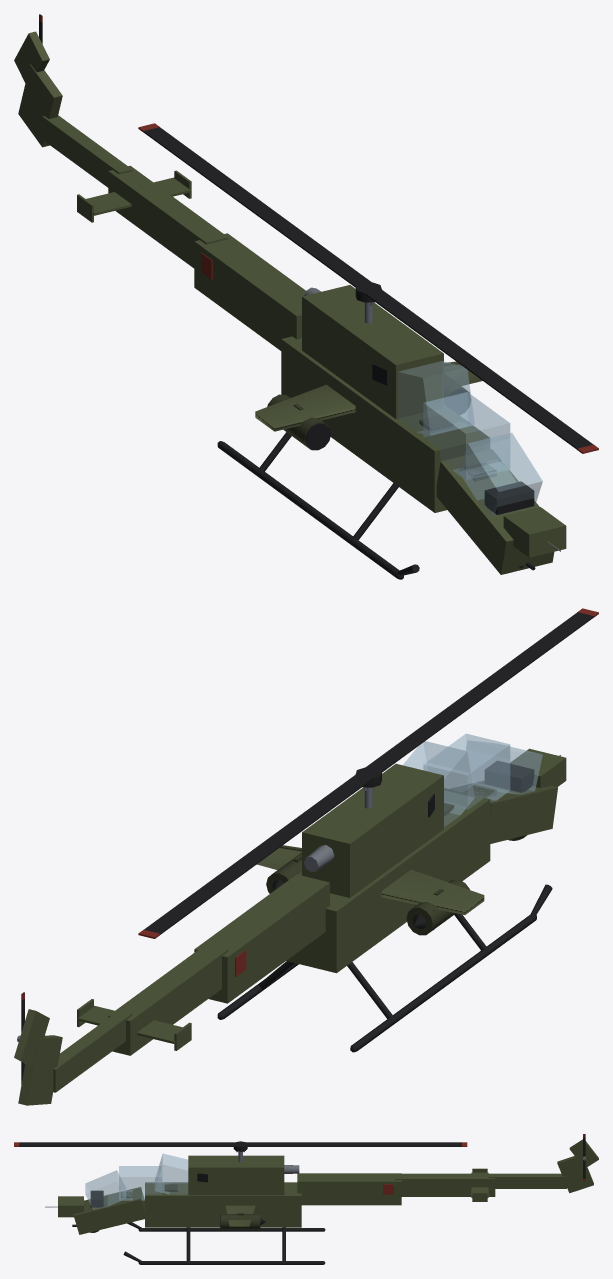
The model's file is ah-1g-cobra-attack.glb.
3 views of the same model, one above another, from view 1: azimuth 30°, elevation 25°; view 2: azimuth 150°, elevation 25°; view 3: azimuth 270°, elevation 25° (orthographic). The views are drawn at different scales.
Parts seen in each view (by area): view 1: Mesh_EngineDoghouse, Mesh_FuselageLower, Mesh_TailSegment1, Mesh_NoseLower, Mesh_CanopyMid, Mesh_TailSegment2, Mesh_CanopyRear, Mesh_CanopyFront, Mesh_Blade2, Mesh_Blade1, Mesh_TailSegment3, Mesh_StubWingsRight (+5 smaller); view 2: Mesh_EngineDoghouse, Mesh_FuselageLower, Mesh_TailSegment1, Mesh_TailSegment2, Mesh_CanopyMid, Mesh_Blade1, Mesh_Blade2, Mesh_NoseLower, Mesh_CanopyFront, Mesh_CanopyRear, Mesh_TailSegment3, Mesh_StubWingsRight (+6 smaller); view 3: Mesh_FuselageLower, Mesh_EngineDoghouse, Mesh_TailSegment1, Mesh_TailSegment2, Mesh_NoseLower, Mesh_CanopyMid, Mesh_CanopyRear, Mesh_TailSegment3, Mesh_CanopyFront, Mesh_Blade1, Mesh_Blade2, Mesh_TailFinLower (+7 smaller).
Boxes of the visible parts, x1,y1,x2,y2 form: Mesh_EngineDoghouse: (302,285,443,418); Mesh_FuselageLower: (281,336,489,512); Mesh_TailSegment1: (194,233,305,350); Mesh_NoseLower: (436,450,554,574); Mesh_CanopyMid: (423,392,510,479); Mesh_TailSegment2: (108,165,228,268); Mesh_CanopyRear: (398,361,474,435); Mesh_CanopyFront: (459,432,542,516); Mesh_Blade2: (143,127,376,289); Mesh_Blade1: (361,287,593,449); Mesh_TailSegment3: (42,115,132,187); Mesh_StubWingsRight: (255,384,355,431); Mesh_EngineDoghouse: (302,763,443,897); Mesh_FuselageLower: (286,788,490,973); Mesh_TailSegment1: (194,874,329,1003); Mesh_TailSegment2: (108,944,228,1055); Mesh_CanopyMid: (423,733,510,809); Mesh_Blade1: (361,612,593,774); Mesh_Blade2: (144,771,372,934); Mesh_NoseLower: (452,781,557,843); Mesh_CanopyFront: (466,740,542,794); Mesh_CanopyRear: (403,741,474,826); Mesh_TailSegment3: (53,1010,132,1092); Mesh_StubWingsRight: (381,869,484,914); Mesh_FuselageLower: (145,1182,301,1227); Mesh_EngineDoghouse: (188,1155,284,1195); Mesh_TailSegment1: (297,1173,401,1205); Mesh_TailSegment2: (395,1173,495,1196); Mesh_NoseLower: (73,1187,144,1234); Mesh_CanopyMid: (119,1166,162,1200); Mesh_CanopyRear: (155,1153,188,1194); Mesh_TailSegment3: (488,1173,566,1188); Mesh_CanopyFront: (85,1170,125,1209); Mesh_Blade1: (19,1142,239,1146); Mesh_Blade2: (241,1142,461,1146); Mesh_TailFinLower: (557,1155,593,1193).
Bounding box in the file's own units: 2.84 × 2.95 × 13.45.
2 materials, 2 textured.
